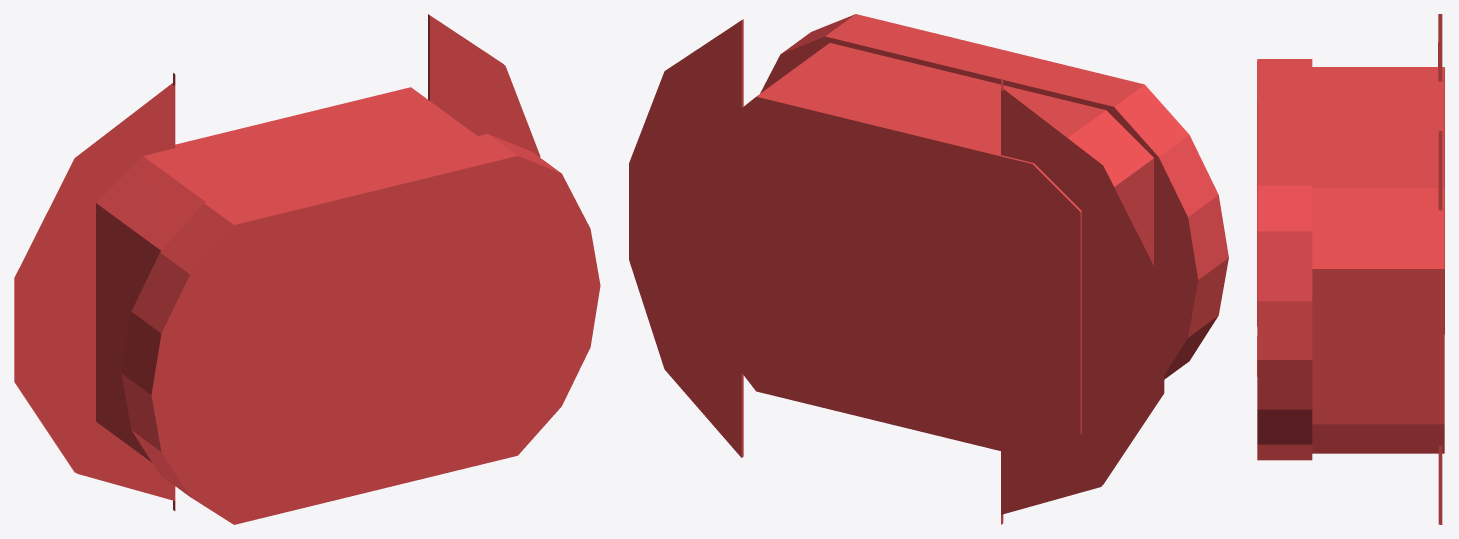
Rendered from pioneer_t6_Pioneer_p3dx_visible_vis_1.dae.
3 renders of one model, left to right at view 1: azimuth 30°, elevation 25°; view 2: azimuth 150°, elevation 25°; view 3: azimuth 270°, elevation 25°, orthographic. The views are drawn at different scales.
Visible parts, largest first — view 1: Node_0x75886572fa60; view 2: Node_0x75886572fa60; view 3: Node_0x75886572fa60.
Part boxes in pixels (bbox=[...]): Node_0x75886572fa60: bbox=[14, 14, 600, 524]; Node_0x75886572fa60: bbox=[629, 14, 1228, 524]; Node_0x75886572fa60: bbox=[1257, 14, 1444, 524].
Bounding box in the file's own units: 0.5019 × 0.4 × 0.17.
